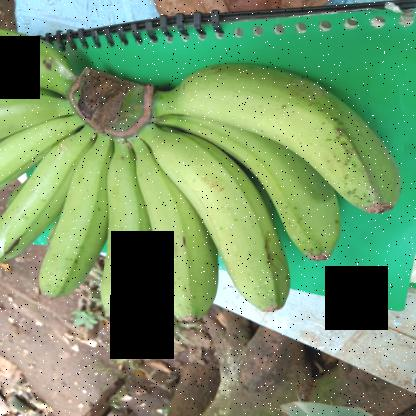freshunripe: (170, 42, 399, 220), (168, 107, 352, 265), (157, 132, 298, 318), (126, 138, 219, 328), (92, 149, 171, 325), (31, 141, 115, 306), (0, 15, 85, 104), (0, 89, 73, 144)
